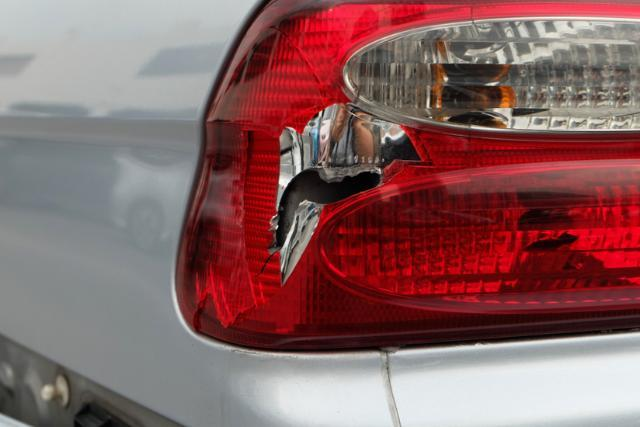Light: (258, 82, 464, 282)
